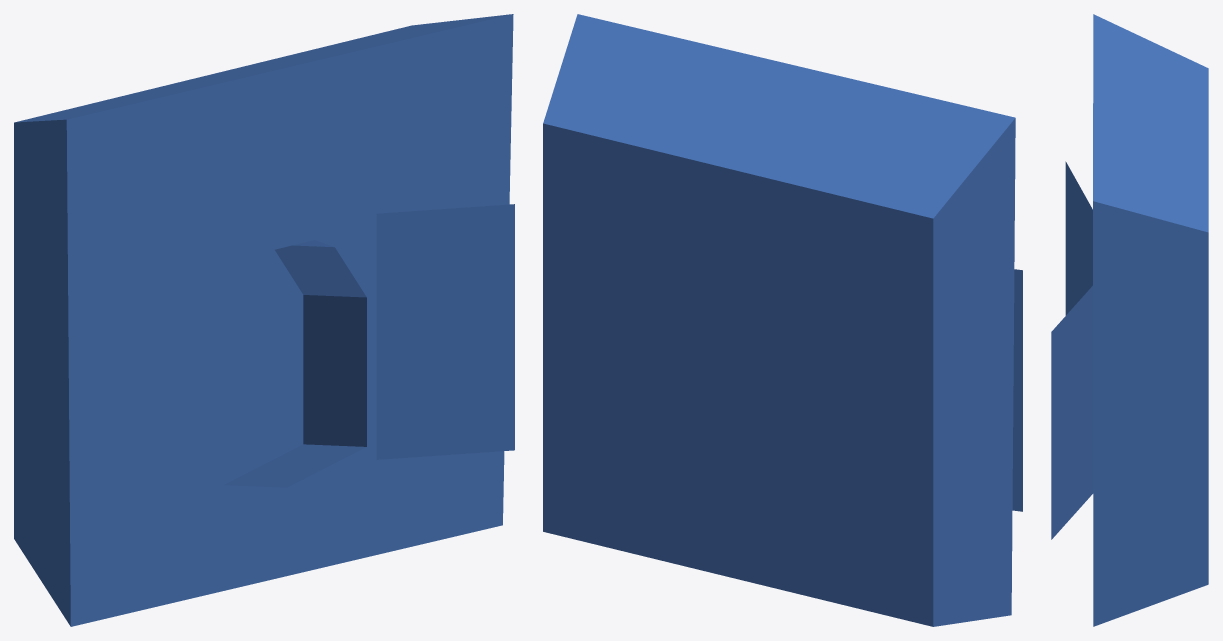
The model's file is Furnace.gltf.
3 views of the same model, side by side, from view 1: azimuth 30°, elevation 25°; view 2: azimuth 150°, elevation 25°; view 3: azimuth 270°, elevation 25° (orthographic). The views are drawn at different scales.
Parts seen in each view (by area): view 1: Furnace; view 2: Furnace; view 3: Furnace.
Boxes of the visible parts, x1,y1,x2,y2 form: Furnace: (14, 14, 514, 626); Furnace: (543, 14, 1022, 626); Furnace: (1051, 14, 1208, 626).
Size of the model in its own units: 1.01 by 1.1 by 0.363.
